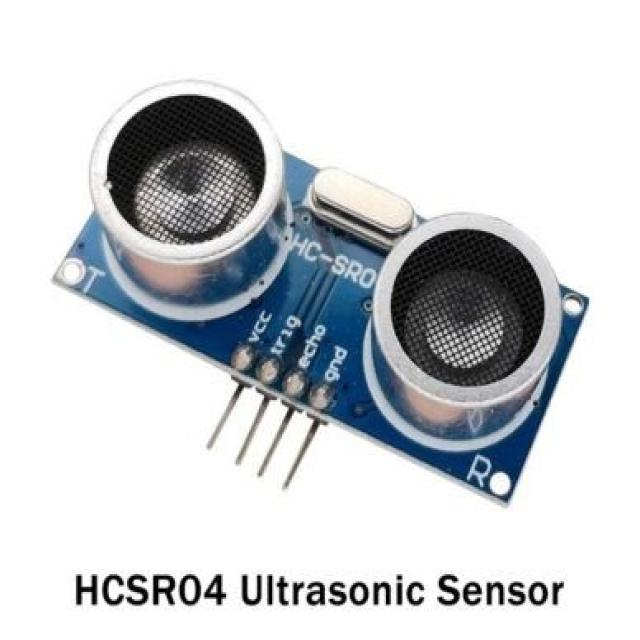Ultrasonic Sensor: (4, 39, 621, 529)
